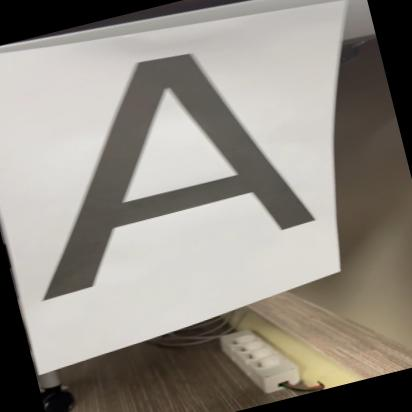seat: (0, 16, 327, 310)
